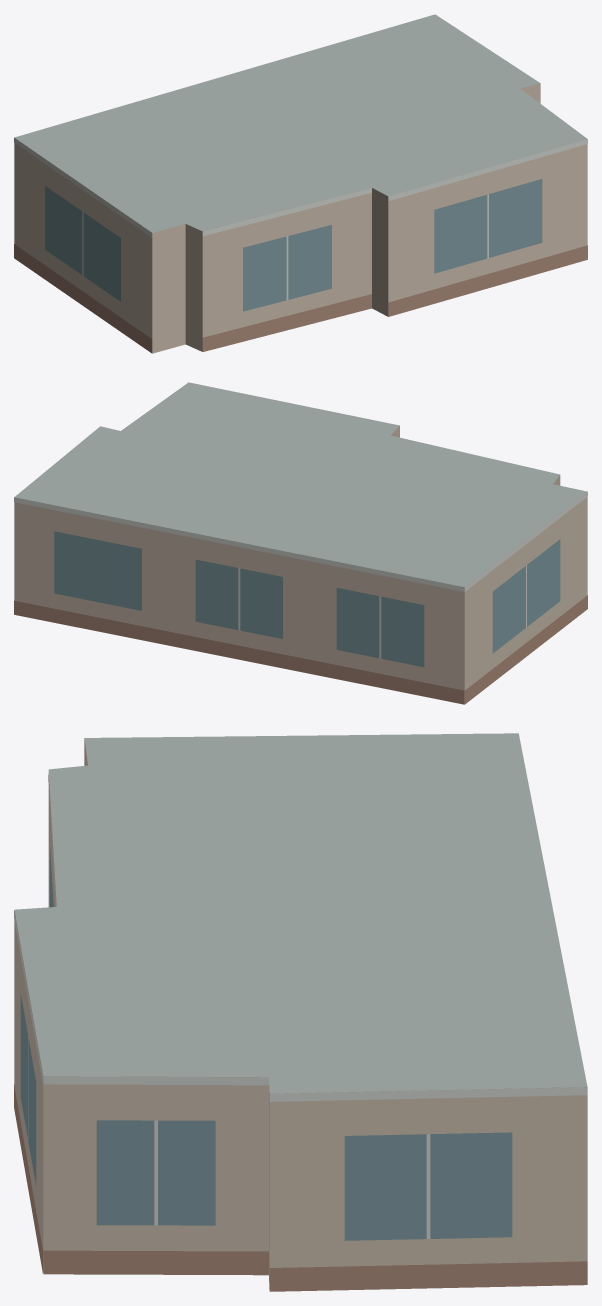
Rendered from survey-upis-32967585.glb.
The picture shows the model from 3 angles, top to bottom: view 1: azimuth 30°, elevation 25°; view 2: azimuth 150°, elevation 25°; view 3: azimuth 270°, elevation 25°; orthographic projection. The views are drawn at different scales.
Parts seen in each view (by area): view 1: survey-upis-32967585.tmp; view 2: survey-upis-32967585.tmp; view 3: survey-upis-32967585.tmp.
Boxes of the visible parts, box(x1,y1,x2,y2) form: survey-upis-32967585.tmp: box(14, 14, 587, 353); survey-upis-32967585.tmp: box(14, 382, 587, 704); survey-upis-32967585.tmp: box(14, 733, 587, 1291).
Bounding box in the file's own units: 11.93 × 3.05 × 8.02.
